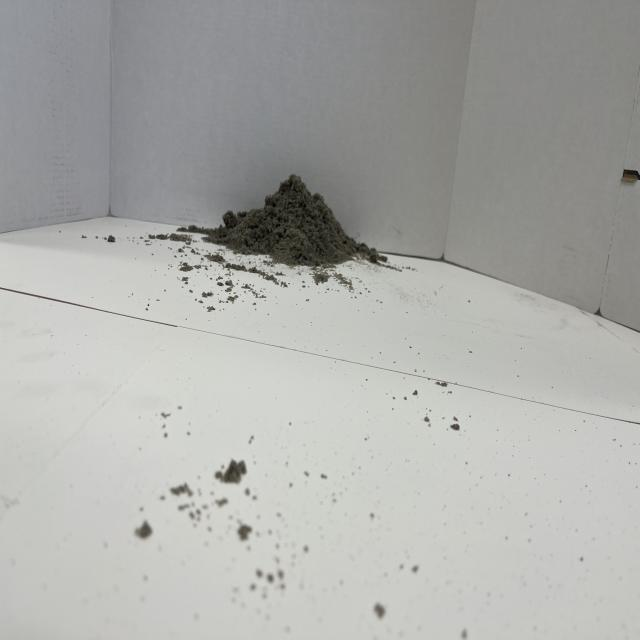sand: (225, 157, 366, 280)
